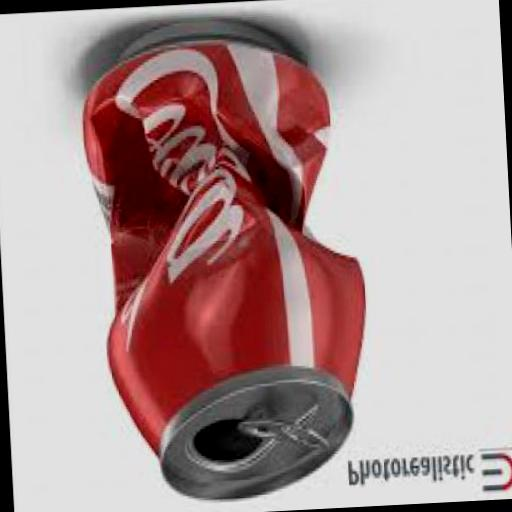metal: (72, 16, 372, 510)
